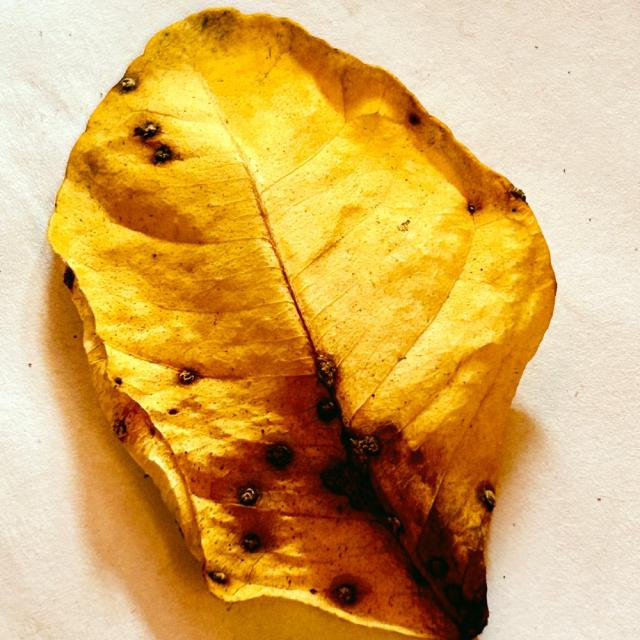DryLeaf_Lemon: (49, 9, 556, 639)
